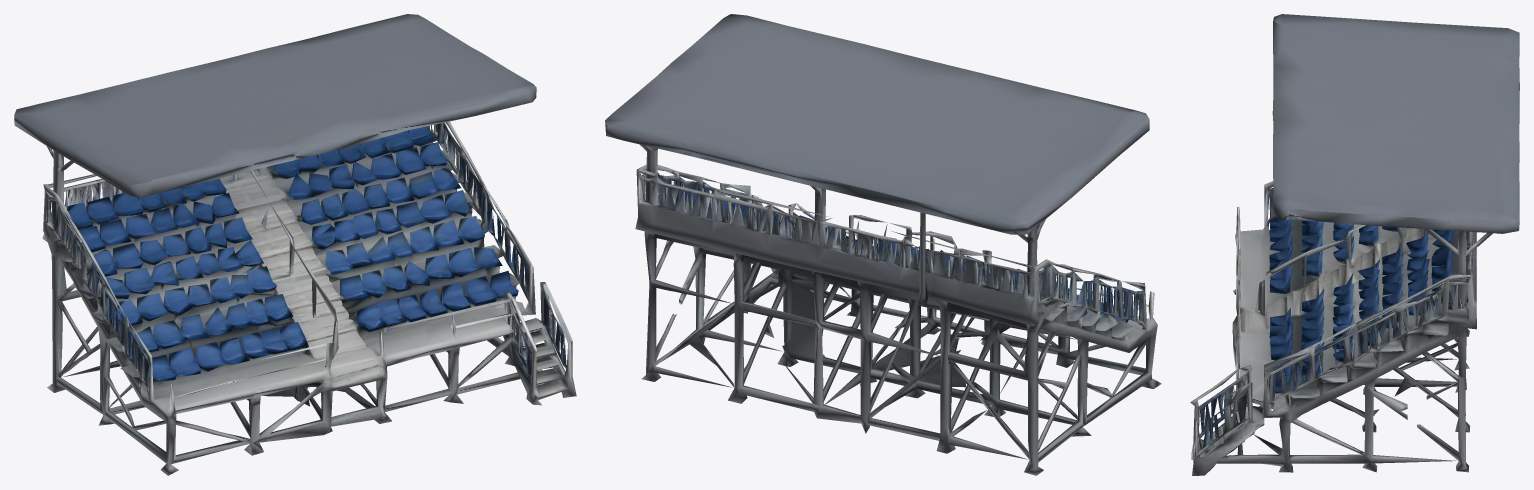
The model's file is stadium_seating.glb.
The picture shows the model from 3 angles, left to right: view 1: azimuth 30°, elevation 25°; view 2: azimuth 150°, elevation 25°; view 3: azimuth 270°, elevation 25°; orthographic projection. The views are drawn at different scales.
Parts seen in each view (by area): view 1: tripo_node_70a22f76-db0f-4b8e-9797-5393fa8ccd19; view 2: tripo_node_70a22f76-db0f-4b8e-9797-5393fa8ccd19; view 3: tripo_node_70a22f76-db0f-4b8e-9797-5393fa8ccd19.
Part boxes in pixels (x1,y1,x2,y2): tripo_node_70a22f76-db0f-4b8e-9797-5393fa8ccd19: (14, 14, 576, 475); tripo_node_70a22f76-db0f-4b8e-9797-5393fa8ccd19: (605, 14, 1161, 475); tripo_node_70a22f76-db0f-4b8e-9797-5393fa8ccd19: (1190, 14, 1519, 475).
Size of the model in its own units: 1 by 0.6511 by 0.716.
Materials: 1 (1 with a texture image).
